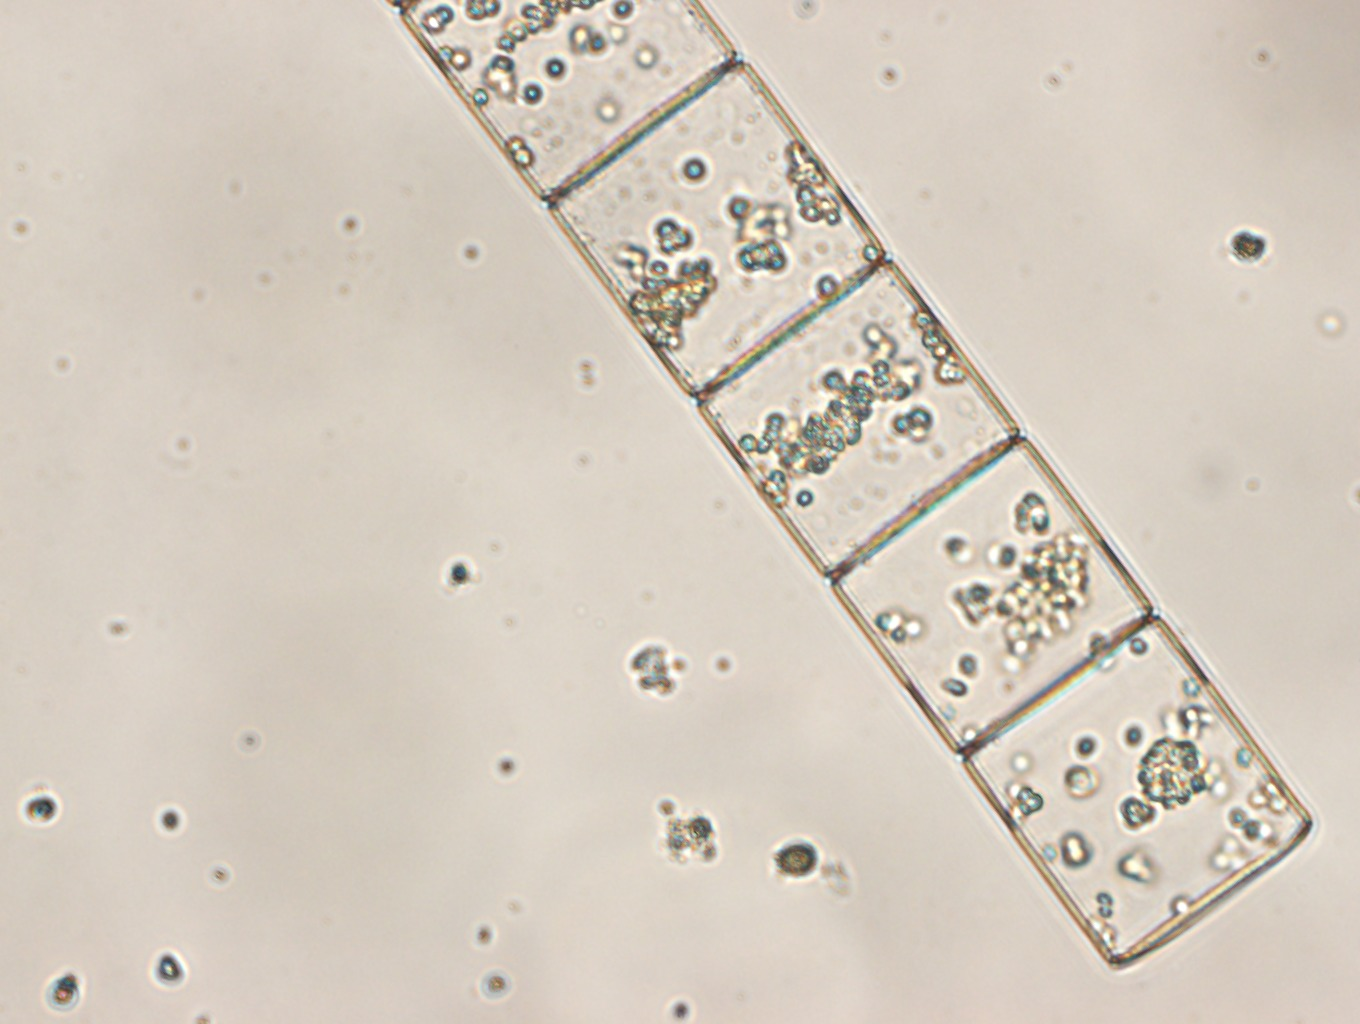guinardia flaccida: (393, 1, 1315, 973)
